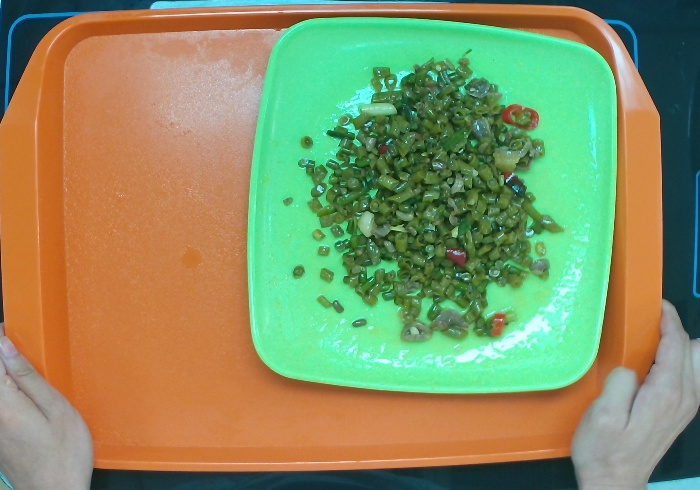ZNLD-Lv_Fang_Pan: (237, 14, 621, 401)
